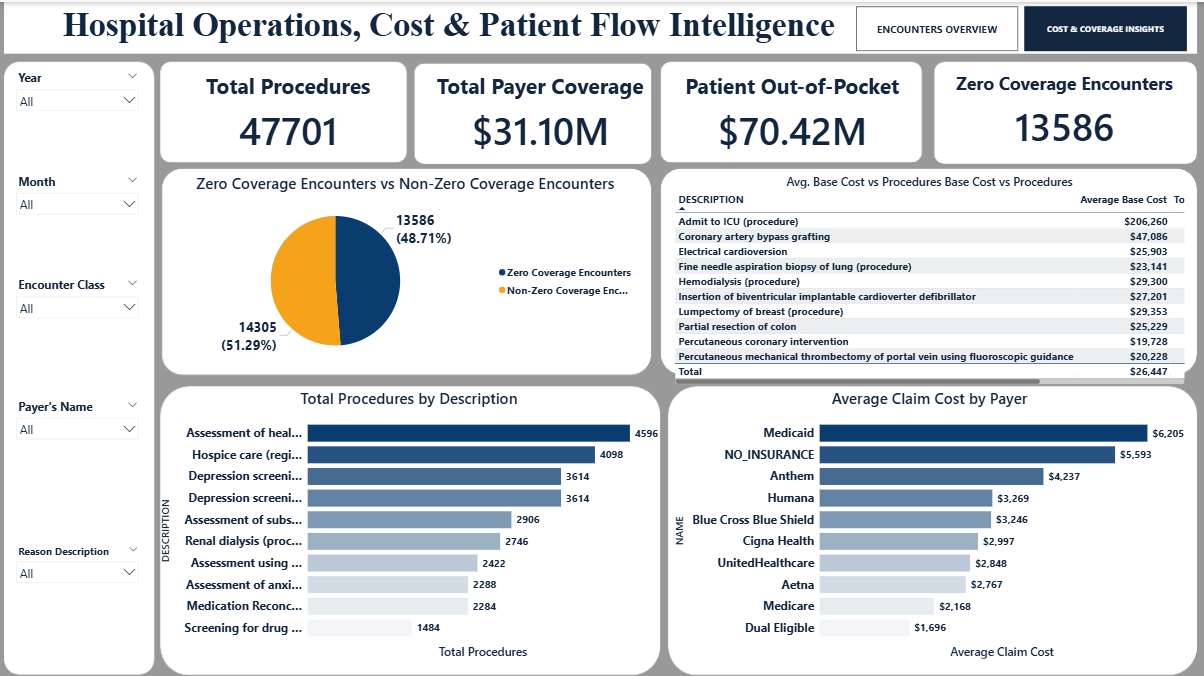

What the dashboard file says about the page in this screenshot:
{"tool":"powerbi","page":{"name":"COST & COVERAGE INSIGHTS","canvas":[1920,1080],"ordinal":1},"visuals":[{"type":"clusteredBarChart","title":"Average Claim Cost by Payer","fields":{"Category":["payers.NAME"],"Y":["encounters.Average Claim Cost"]},"box":[1071.3,613.2,820.8,436.6],"z":0},{"type":"tableEx","title":"Avg. Base Cost vs Procedures Base Cost vs Procedures","fields":{"Values":["procedures.DESCRIPTION","procedures.Average Base Cost","procedures.Total Procedure Base Cost","procedures.Total Procedures"]},"box":[1071.3,272,820.8,341.2],"z":1000},{"type":"clusteredBarChart","title":"Total Procedures by Description","fields":{"Category":["procedures.DESCRIPTION"],"Y":["procedures.Total Procedures"]},"box":[252.9,613.2,801.7,436.6],"z":2000},{"type":"pieChart","title":"Zero Coverage Encounters vs Non-Zero Coverage Encounters","fields":{"Y":["encounters.Zero Coverage Encounters","encounters.Non-Zero Coverage Encounters"]},"box":[272,272,751.6,310.2],"z":3000},{"type":"textbox","box":[97.8,0,1266.9,76.3],"z":4000},{"type":"pageNavigator","box":[1364.7,7.2,527.3,71.6],"z":5000},{"type":"cardVisual","fields":{"Data":["procedures.Total Procedures"]},"box":[269.6,93.1,384.1,157.5],"z":6000},{"type":"cardVisual","fields":{"Data":["encounters.Total Payer Coverage"]},"box":[670.4,93.1,384.1,157.5],"z":7000},{"type":"cardVisual","fields":{"Data":["encounters.Patient Out-of-Pocket"]},"box":[1071.3,93.1,384.1,157.5],"z":8000},{"type":"cardVisual","fields":{"Data":["encounters.Zero Coverage Encounters"]},"box":[1500.7,93.1,391.3,157.5],"z":9000},{"type":"slicer","fields":{"Values":["encounters.START.Variation.Date Hierarchy.Year"]},"box":[19.1,102.6,214.7,147.9],"z":10000},{"type":"slicer","fields":{"Values":["encounters.START.Variation.Date Hierarchy.Month"]},"box":[19.1,267.2,214.7,147.9],"z":11000},{"type":"slicer","fields":{"Values":["encounters.ENCOUNTERCLASS"]},"box":[19.1,431.9,214.7,164.6],"z":12000},{"type":"slicer","fields":{"Values":["payers.NAME"]},"box":[19.1,625.1,214.7,200.4],"z":13000},{"type":"slicer","fields":{"Values":["encounters.REASONDESCRIPTION"]},"box":[19.1,856.5,214.7,200.4],"z":14000}]}

Visuals, with their boxes in screenshot pixels (x1, y1, x2, y2), scaled from the page's 1920x1080 canvas onto the 1204x676 screenshot:
"Average Claim Cost by Payer" clusteredBarChart: x1=672, y1=384, x2=1187, y2=657
"Avg. Base Cost vs Procedures Base Cost vs Procedures" tableEx: x1=672, y1=170, x2=1187, y2=384
"Total Procedures by Description" clusteredBarChart: x1=159, y1=384, x2=661, y2=657
"Zero Coverage Encounters vs Non-Zero Coverage Encounters" pieChart: x1=171, y1=170, x2=642, y2=364
textbox: x1=61, y1=0, x2=856, y2=48
pageNavigator: x1=856, y1=5, x2=1186, y2=49
cardVisual - procedures.Total Procedures: x1=169, y1=58, x2=410, y2=157
cardVisual - encounters.Total Payer Coverage: x1=420, y1=58, x2=661, y2=157
cardVisual - encounters.Patient Out-of-Pocket: x1=672, y1=58, x2=913, y2=157
cardVisual - encounters.Zero Coverage Encounters: x1=941, y1=58, x2=1186, y2=157
slicer - encounters.START.Variation.Date Hierarchy.Year: x1=12, y1=64, x2=147, y2=157
slicer - encounters.START.Variation.Date Hierarchy.Month: x1=12, y1=167, x2=147, y2=260
slicer - encounters.ENCOUNTERCLASS: x1=12, y1=270, x2=147, y2=373
slicer - payers.NAME: x1=12, y1=391, x2=147, y2=517
slicer - encounters.REASONDESCRIPTION: x1=12, y1=536, x2=147, y2=662
